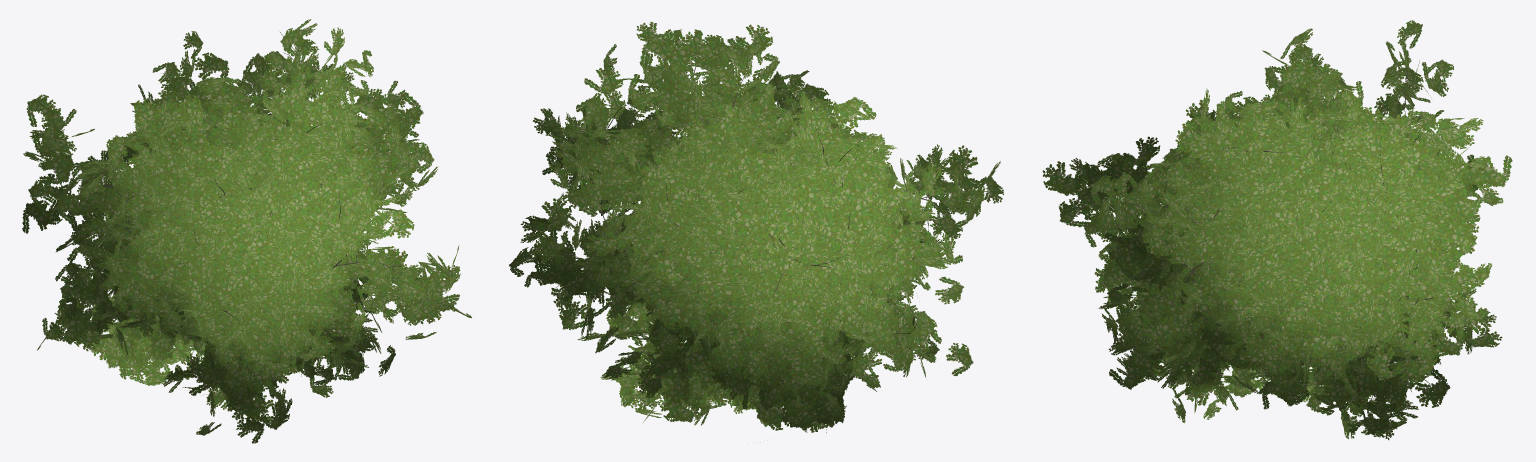
File: KO2_KermesOak_Medium_1.8m.glb
The picture shows the model from 3 angles, left to right: view 1: azimuth 30°, elevation 25°; view 2: azimuth 150°, elevation 25°; view 3: azimuth 270°, elevation 25°; orthographic projection. The views are drawn at different scales.
Visible parts, largest first — view 1: KO2_leaves, KO2_wood; view 2: KO2_leaves, KO2_wood; view 3: KO2_leaves, KO2_wood.
Part boxes in pixels (left/top/right/bottom): KO2_leaves: left=22, top=19, right=471, bottom=443; KO2_wood: left=53, top=52, right=428, bottom=379; KO2_leaves: left=509, top=21, right=1003, bottom=432; KO2_wood: left=560, top=65, right=963, bottom=396; KO2_leaves: left=1042, top=20, right=1512, bottom=439; KO2_wood: left=1087, top=63, right=1454, bottom=411.
Size of the model in its own units: 2.32 by 1.94 by 2.28.
2 materials, 2 textured.
